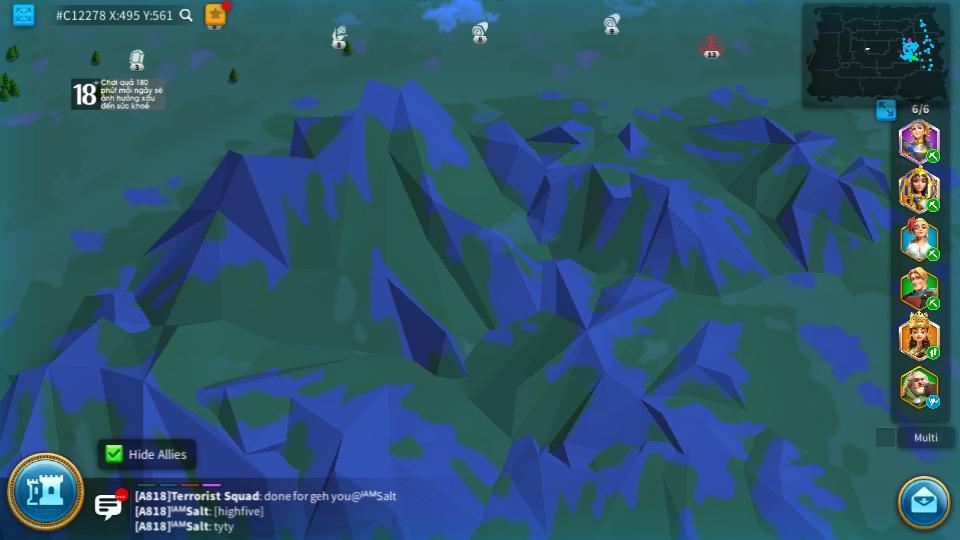gem-z-out: (127, 49, 147, 70)
march_idle: (925, 396, 942, 408)
march_marching: (925, 197, 941, 212), (925, 345, 941, 359), (925, 297, 942, 309), (925, 150, 942, 162), (925, 248, 941, 260)
